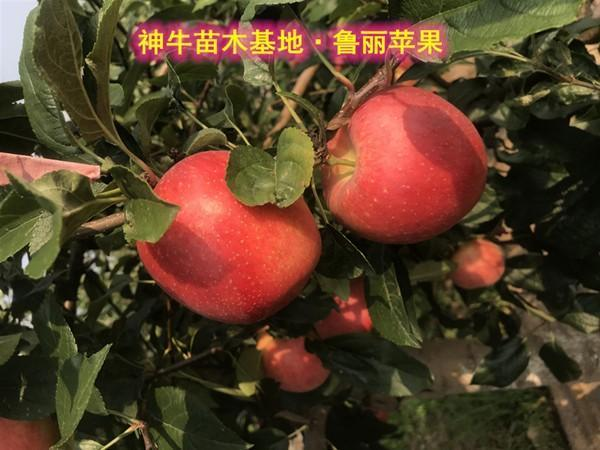apple: (137, 150, 321, 317), (322, 86, 484, 241)
